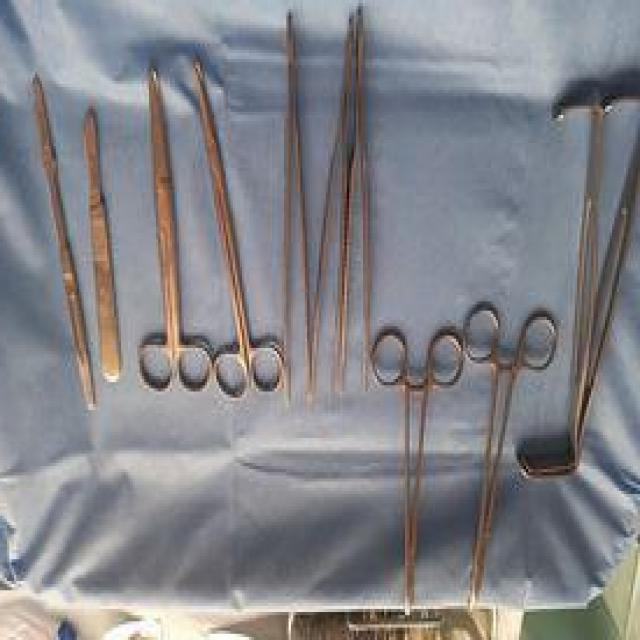Army_navy: (512, 78, 640, 488), (483, 80, 608, 476)
Forceps: (307, 9, 358, 404), (280, 12, 316, 410), (340, 3, 374, 398)
Hemostat: (458, 298, 561, 603), (368, 323, 468, 609)
Mayo_metz: (188, 53, 286, 404), (135, 65, 214, 398)
Scalpel: (28, 71, 98, 414), (82, 106, 124, 386)
